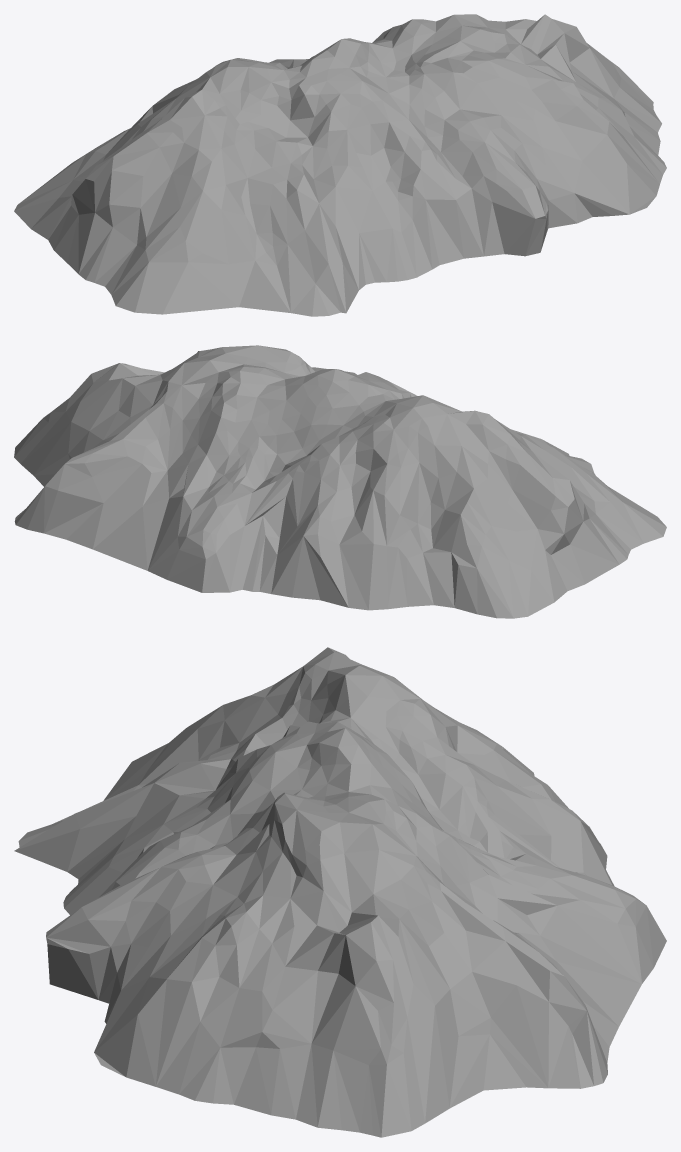
File: mountains_002.glb
The picture shows the model from 3 angles, top to bottom: view 1: azimuth 30°, elevation 25°; view 2: azimuth 150°, elevation 25°; view 3: azimuth 270°, elevation 25°; orthographic projection. The views are drawn at different scales.
Parts seen in each view (by area): view 1: mountains_002; view 2: mountains_002; view 3: mountains_002.
Boxes of the visible parts, left/top/right/bottom form: mountains_002: left=14, top=14, right=666, bottom=316; mountains_002: left=14, top=345, right=666, bottom=618; mountains_002: left=14, top=647, right=666, bottom=1137.
Size of the model in its own units: 27.98 by 6.66 by 19.65.
Materials: 1 (1 with a texture image).
